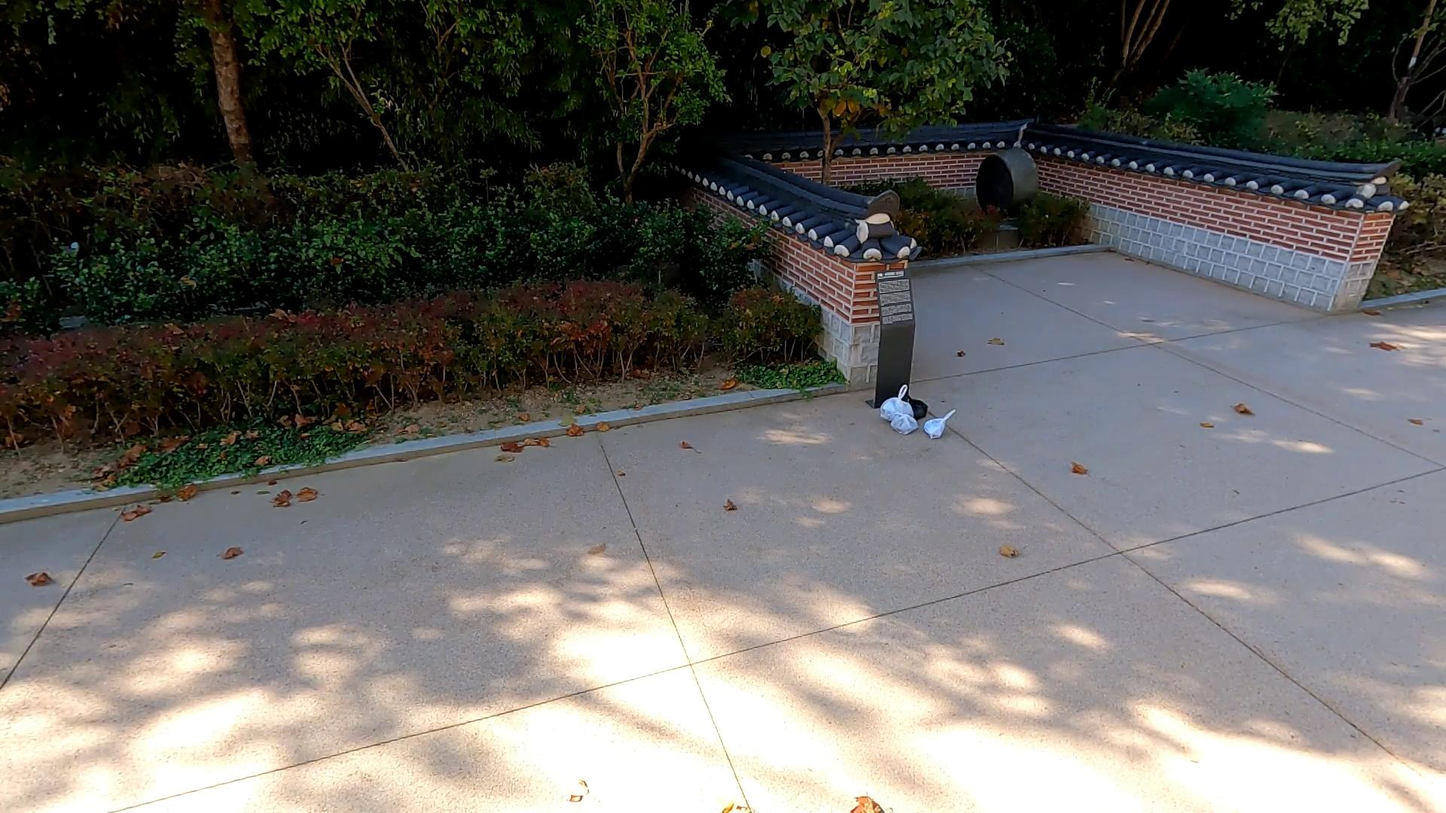trash: (877, 382, 920, 425), (922, 408, 956, 440), (896, 393, 929, 419), (889, 408, 918, 437)
